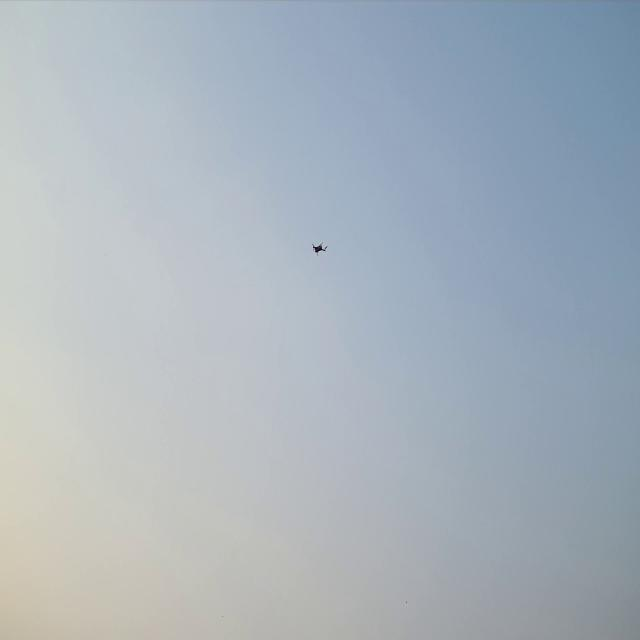UAV: (310, 240, 328, 256)
